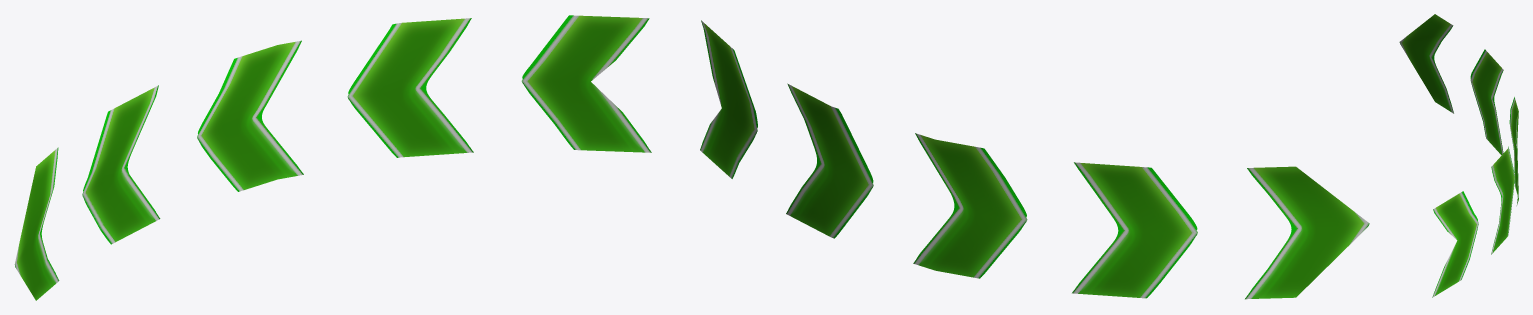
File: ARROW.FBX
3 views of the same model, side by side, from view 1: azimuth 30°, elevation 25°; view 2: azimuth 150°, elevation 25°; view 3: azimuth 270°, elevation 25° (orthographic). The views are drawn at different scales.
Parts seen in each view (by area): view 1: Plane001; view 2: Plane001; view 3: Plane001.
Part boxes in pixels (box(x1,y1,x2,y2)): Plane001: box(14, 15, 651, 300); Plane001: box(700, 20, 1369, 299); Plane001: box(1399, 14, 1518, 297).
Size of the model in its own units: 81.24 by 15.53 by 19.15.
1 material, 1 textured.
